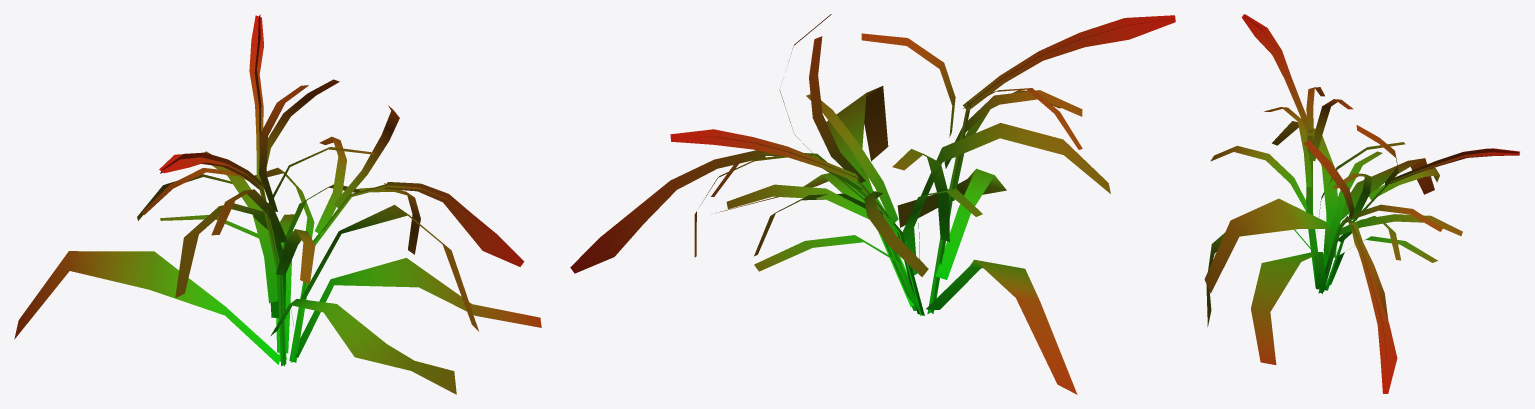
Rendered from Great Brome_LOD3_Var3_tjugaikia.fbx.
3 views of the same model, side by side, from view 1: azimuth 30°, elevation 25°; view 2: azimuth 150°, elevation 25°; view 3: azimuth 270°, elevation 25° (orthographic). The views are drawn at different scales.
Visible parts, largest first — view 1: _0205_Var3_LOD3; view 2: _0205_Var3_LOD3; view 3: _0205_Var3_LOD3.
Boxes of the visible parts, left/top/right/bottom form: _0205_Var3_LOD3: left=14, top=14, right=541, bottom=394; _0205_Var3_LOD3: left=570, top=14, right=1175, bottom=394; _0205_Var3_LOD3: left=1204, top=14, right=1519, bottom=393.
Bounding box in the file's own units: 55.89 × 30.4 × 41.07.
